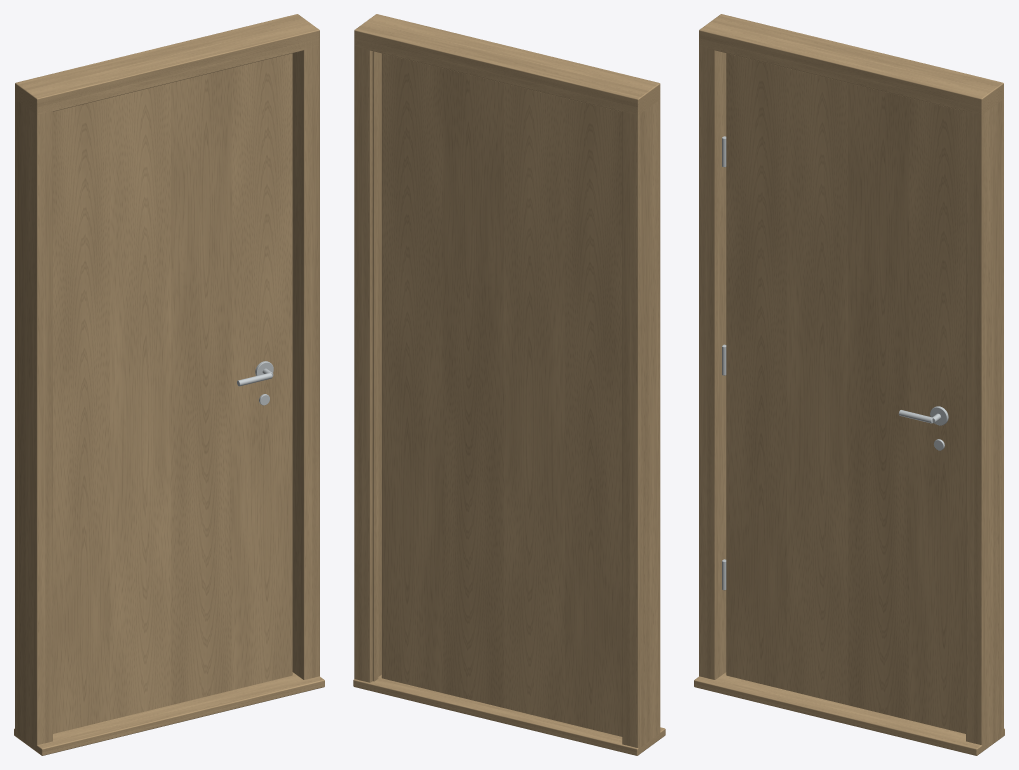
File: interior_door.glb
The picture shows the model from 3 angles, left to right: view 1: azimuth 30°, elevation 25°; view 2: azimuth 150°, elevation 25°; view 3: azimuth 330°, elevation 25°; orthographic projection.
Visible parts, largest first — view 1: Leaf | flush veneer slab, Frame | jamb, Frame | jamb.001, Frame | header, Frame | sill; view 2: Leaf | flush veneer slab, Frame | jamb, Frame | jamb.001, Frame | header, Frame | sill, Frame | door stop.001; view 3: Leaf | flush veneer slab, Frame | jamb.001, Frame | jamb, Frame | header, Frame | sill.
Boxes of the visible parts, left/top/right/bottom form: Leaf | flush veneer slab: left=53, top=53, right=292, bottom=733; Frame | jamb: left=15, top=85, right=52, bottom=750; Frame | jamb.001: left=292, top=31, right=319, bottom=679; Frame | header: left=15, top=14, right=319, bottom=114; Frame | sill: left=14, top=672, right=324, bottom=755; Leaf | flush veneer slab: left=381, top=53, right=622, bottom=736; Frame | jamb: left=622, top=97, right=660, bottom=748; Frame | jamb.001: left=354, top=31, right=381, bottom=682; Frame | header: left=354, top=14, right=660, bottom=115; Frame | sill: left=353, top=675, right=665, bottom=755; Frame | door stop.001: left=372, top=51, right=378, bottom=681; Leaf | flush veneer slab: left=726, top=53, right=965, bottom=733; Frame | jamb.001: left=966, top=85, right=1003, bottom=747; Frame | jamb: left=699, top=31, right=726, bottom=679; Frame | header: left=699, top=14, right=1003, bottom=114; Frame | sill: left=694, top=672, right=1004, bottom=755.
Size of the model in its own units: 0.953 by 2.1 by 0.165.
3 materials, 3 textured.
